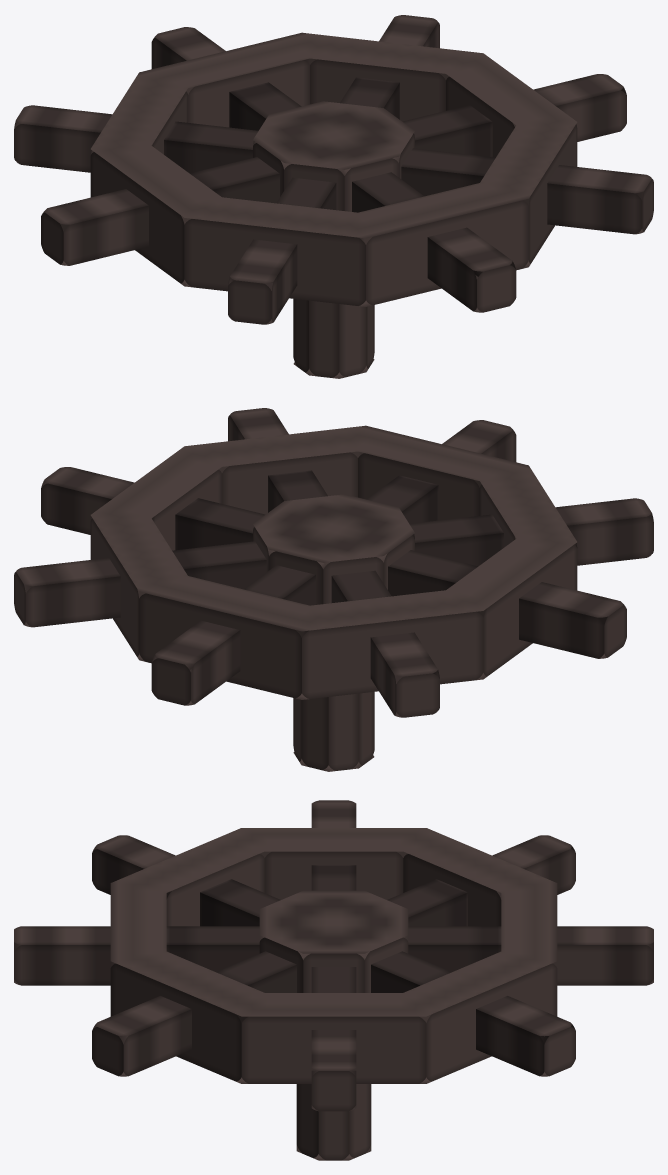
Rendered from Steering Wheel.fbx.
The picture shows the model from 3 angles, top to bottom: view 1: azimuth 30°, elevation 25°; view 2: azimuth 150°, elevation 25°; view 3: azimuth 270°, elevation 25°; orthographic projection.
Parts seen in each view (by area): view 1: Wheel; view 2: Wheel; view 3: Wheel.
Part boxes in pixels (left/top/right/bottom): Wheel: left=14, top=15, right=653, bottom=378; Wheel: left=14, top=408, right=653, bottom=771; Wheel: left=14, top=800, right=653, bottom=1160.
Size of the model in its own units: 269 by 103 by 269.
Materials: 1 (1 with a texture image).
